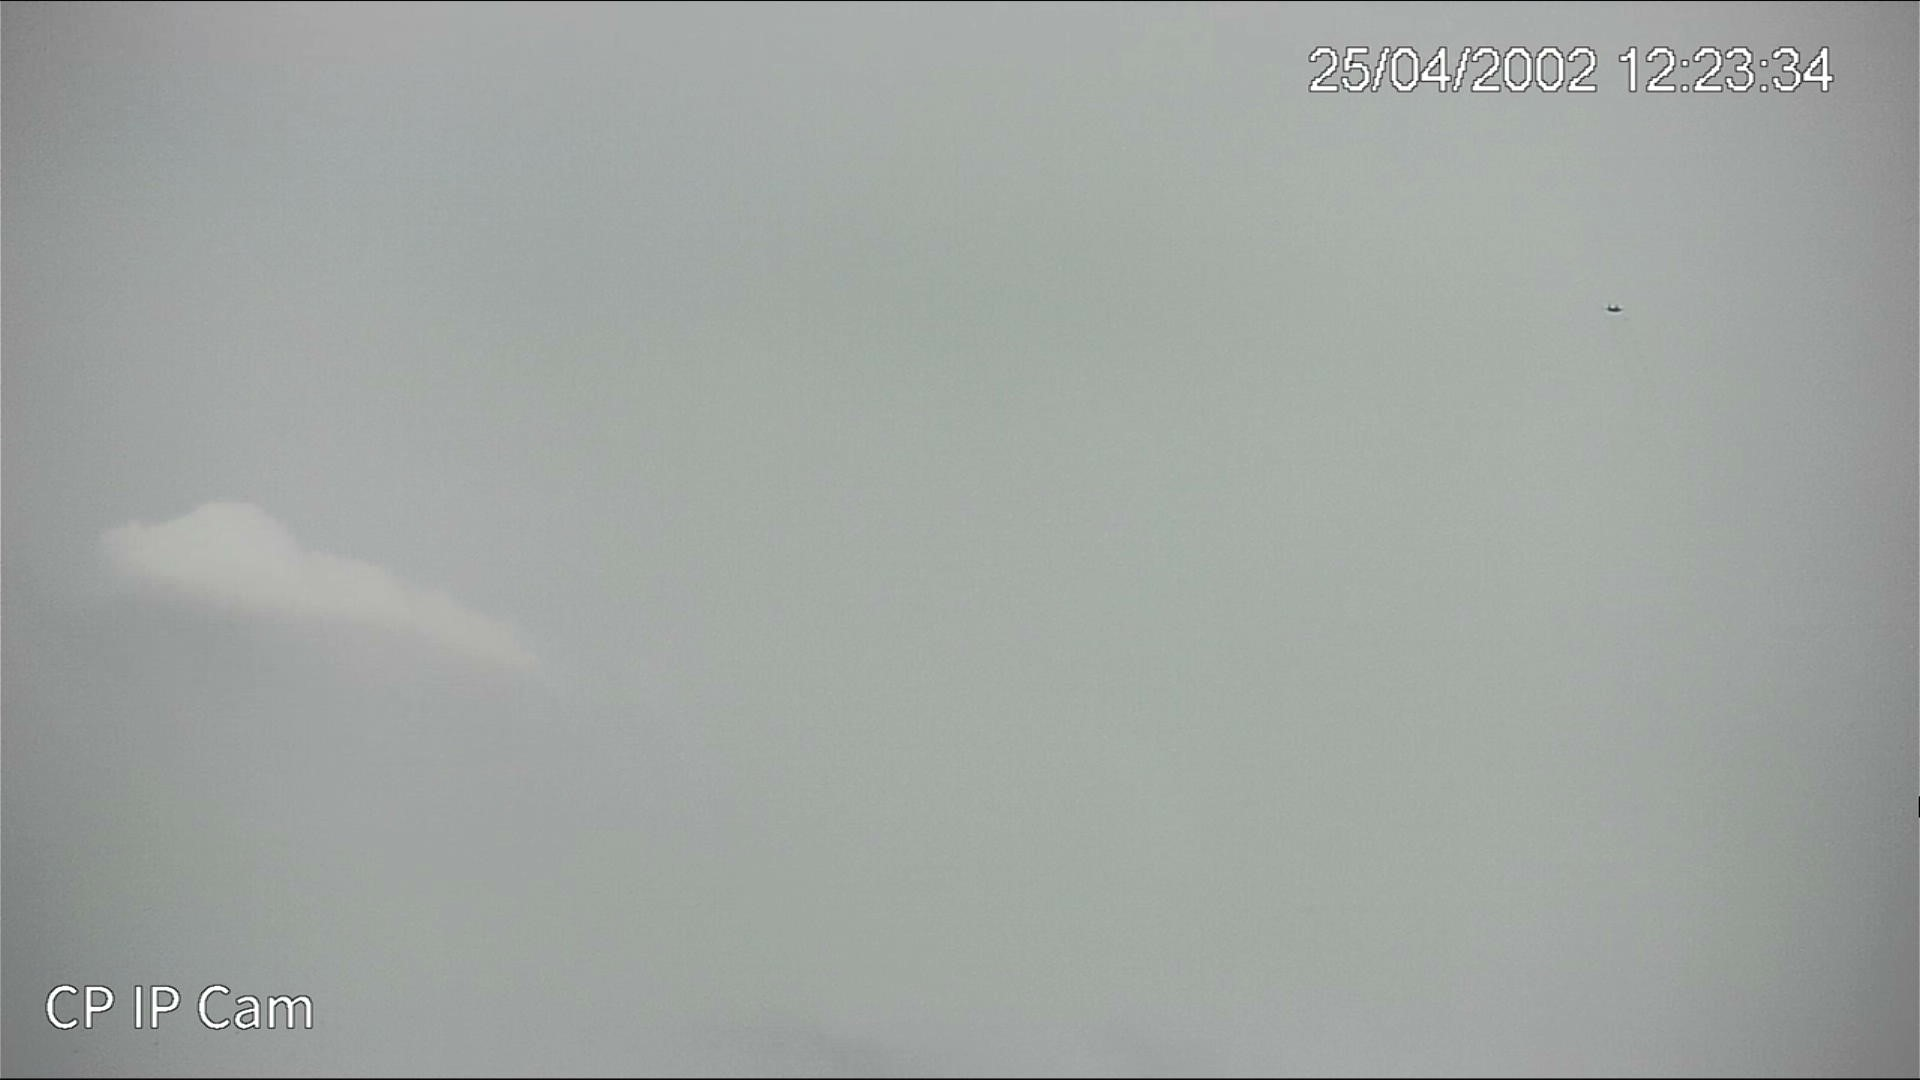SU_30: (1604, 302, 1622, 315)
